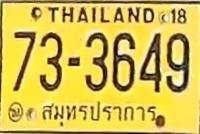3: (84, 31, 108, 92), (38, 31, 62, 90)
4: (138, 32, 162, 92)
6: (112, 32, 135, 92)
7: (13, 30, 36, 91)
9: (165, 32, 190, 92)
SPK: (37, 99, 160, 125)
